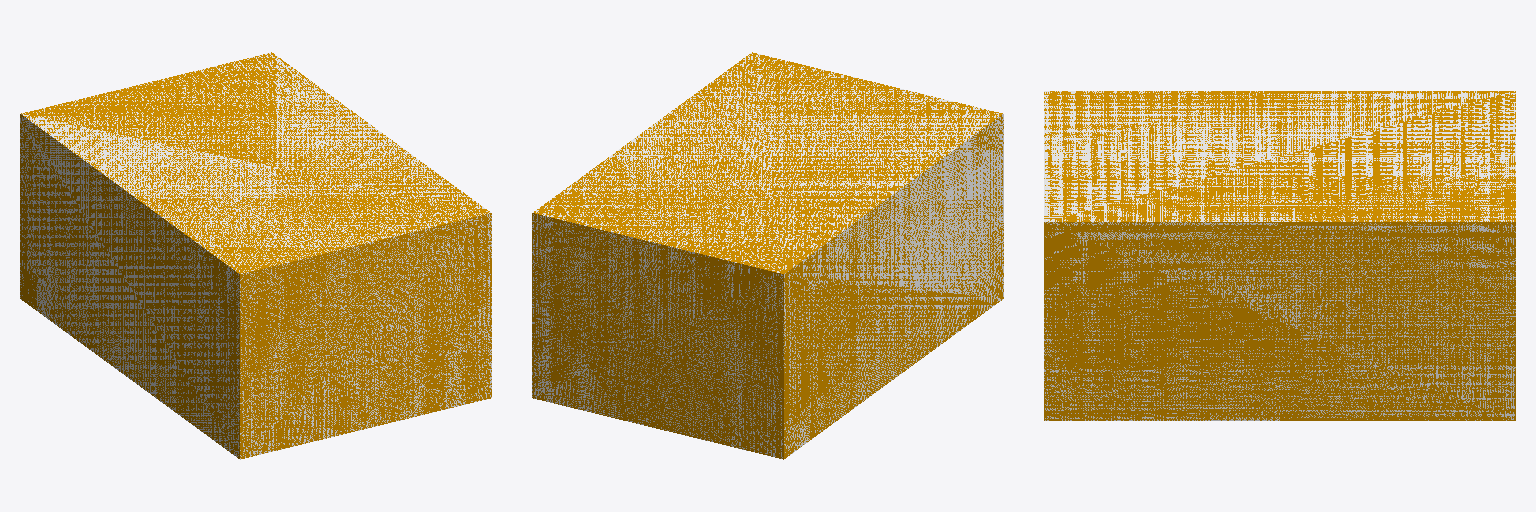
The robot description file, URDF, robot "my_object":
<?xml version="1.0" ?> 
<robot name="my_object" static="true">
  <link name="base_link">
  <inertial>
    <mass value="0.876" />
    <origin xyz="0 0 0.0" />
    <inertia ixx="1.0" ixy="0.0" ixz="0.0" iyy="1.0" iyz="0.0" izz="1.0"/>
  </inertial>
  <visual>
   <origin xyz="0 0 0.0" rpy="0 0 0" />
   <geometry>
     <mesh filename="package://cob_gazebo_objects/Media/models/wooden_box.dae"/>
   </geometry>
  </visual>
  <collision>
   <origin xyz="0 0 0" rpy="0 0 0" />
   <geometry>
     <box size="0.198 0.3 0.14" />
   </geometry>
  </collision>     
  </link>

<gazebo>
	<static>true</static>
</gazebo>
</robot>

--- Facts derived from the render (not from the file) ---
The picture shows the robot from 3 angles, left to right: view 1: azimuth 30°, elevation 25°; view 2: azimuth 150°, elevation 25°; view 3: azimuth 270°, elevation 25°; orthographic projection.
Robot: my_object — 1 links, 0 joints (none); root link base_link; default pose: every joint at zero.
Links seen in each view (by area): view 1: base_link; view 2: base_link; view 3: base_link.
Boxes of the visible links, bbox=[...] form: base_link: bbox=[20, 52, 491, 459]; base_link: bbox=[532, 52, 1003, 459]; base_link: bbox=[1044, 91, 1515, 420].
Size in the robot's own frame: 0.005 by 0.0076 by 0.0035 metres.
1 mesh visuals loaded from 1 distinct referenced files (1 Collada DAE).